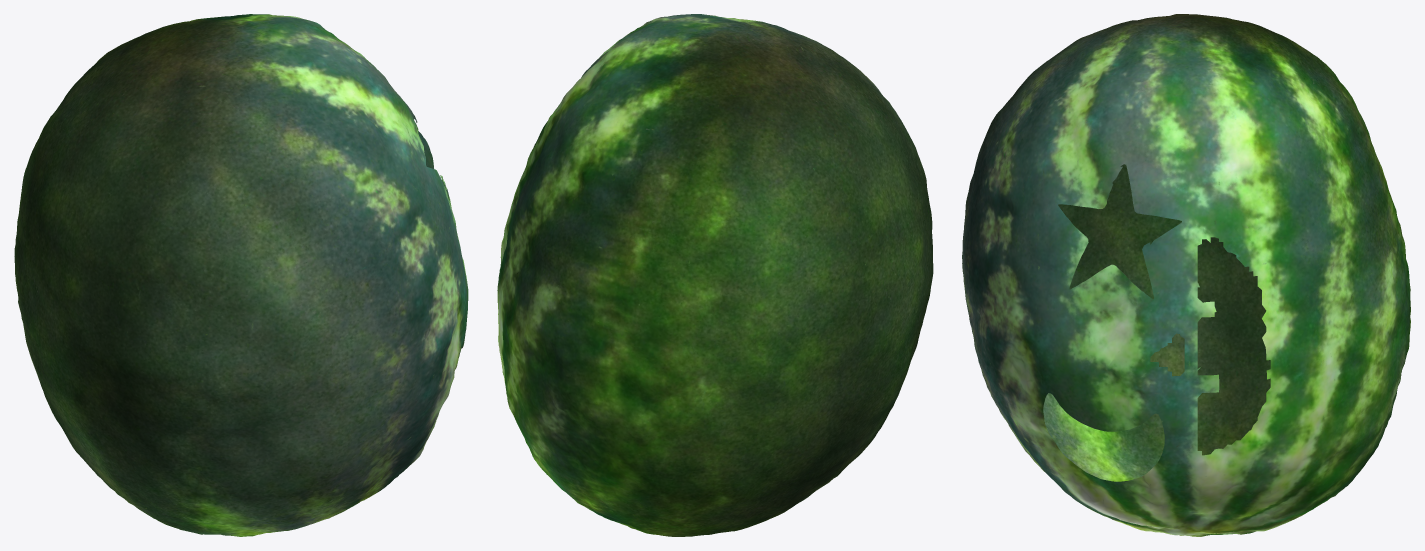
File: watermelon_after.gltf
3 renders of one model, left to right at view 1: azimuth 30°, elevation 25°; view 2: azimuth 150°, elevation 25°; view 3: azimuth 270°, elevation 25°, orthographic. The views are drawn at different scales.
Parts seen in each view (by area): view 1: watermelon_star_moon; view 2: watermelon_star_moon; view 3: watermelon_star_moon.
Part boxes in pixels (x1,y1,x2,y2): watermelon_star_moon: [14, 14, 468, 536]; watermelon_star_moon: [497, 14, 933, 536]; watermelon_star_moon: [962, 14, 1410, 536].
Bounding box in the file's own units: 0.6622 × 0.8156 × 0.6847.
Materials: 1 (1 with a texture image).
